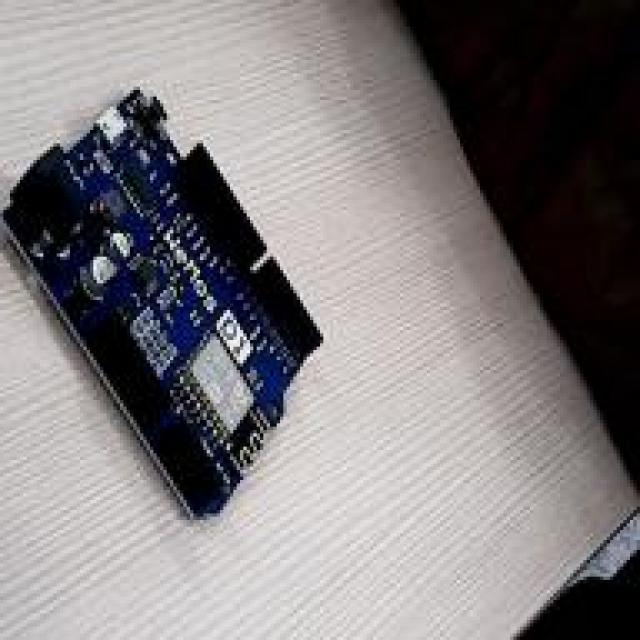Wemos: (4, 91, 321, 514)
